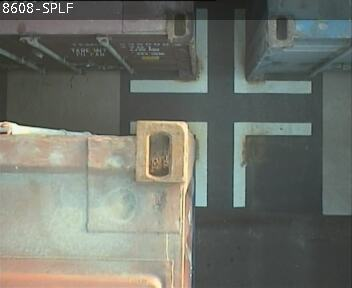groundmarker_1: (129, 11, 311, 94), (129, 121, 311, 204)
